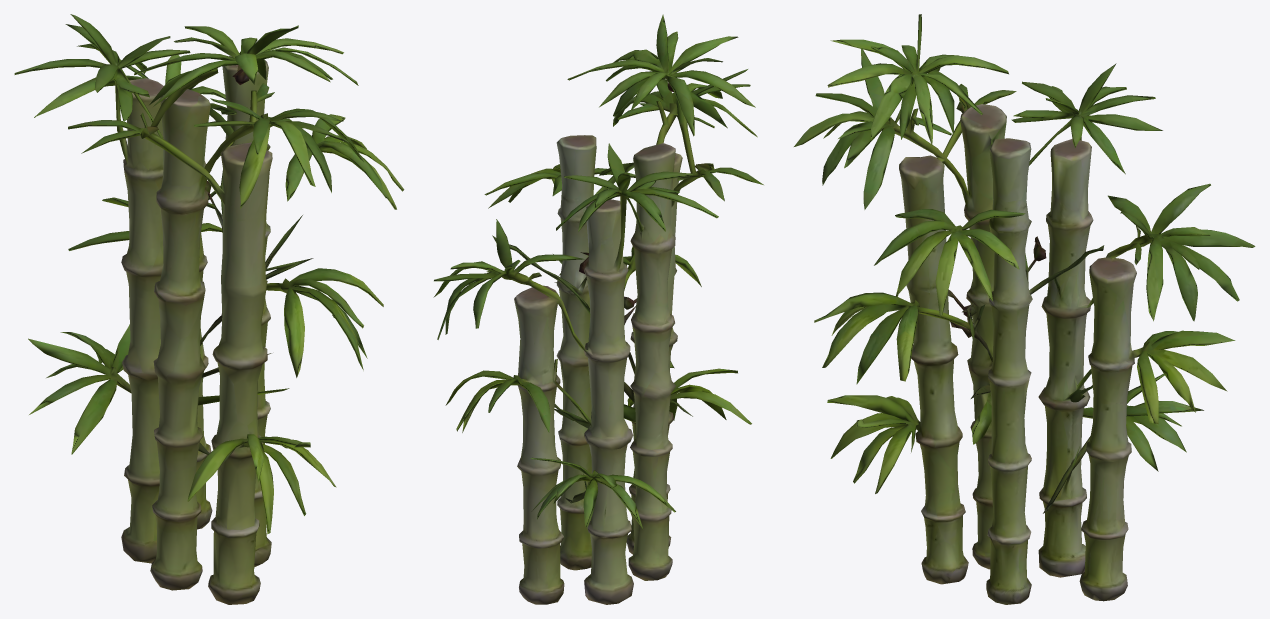
The model's file is bamboo.glb.
3 renders of one model, left to right at view 1: azimuth 30°, elevation 25°; view 2: azimuth 150°, elevation 25°; view 3: azimuth 270°, elevation 25°, orthographic. The views are drawn at different scales.
Visible parts, largest first — view 1: tripo_node_6bd5dd02-5daf-41c1-988d-2973d7e085e3; view 2: tripo_node_6bd5dd02-5daf-41c1-988d-2973d7e085e3; view 3: tripo_node_6bd5dd02-5daf-41c1-988d-2973d7e085e3.
Boxes of the visible parts, x1=… form: tripo_node_6bd5dd02-5daf-41c1-988d-2973d7e085e3: x1=14, y1=14, x2=404, y2=604; tripo_node_6bd5dd02-5daf-41c1-988d-2973d7e085e3: x1=433, y1=14, x2=763, y2=604; tripo_node_6bd5dd02-5daf-41c1-988d-2973d7e085e3: x1=794, y1=14, x2=1255, y2=604.
Size of the model in its own units: 0.6597 by 1.2 by 0.9294.
Materials: 1 (1 with a texture image).
